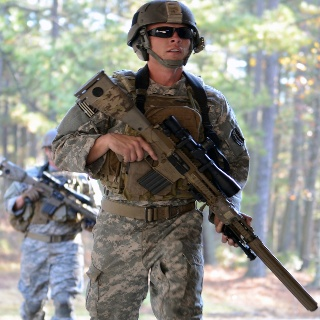rifle: (75, 69, 320, 317), (1, 159, 101, 225)
